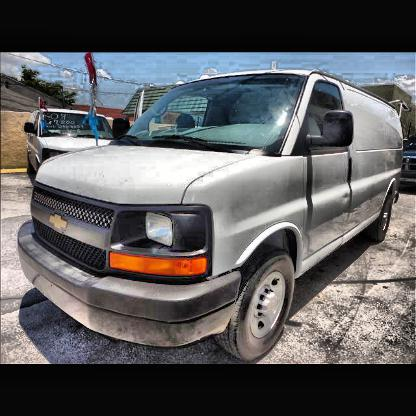Chevrolet Express Cargo Van 2007: (11, 66, 410, 363)
